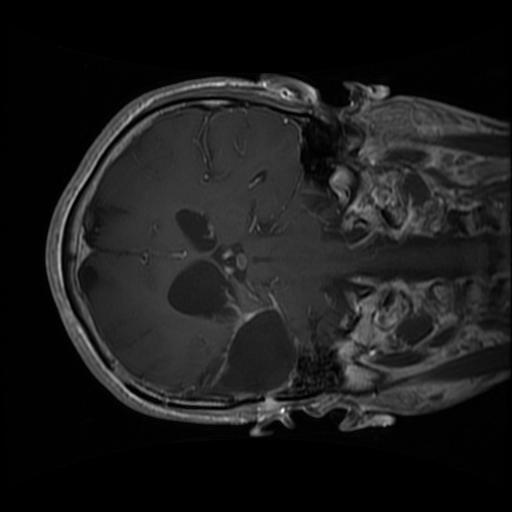glioma: (165, 256, 300, 404)
